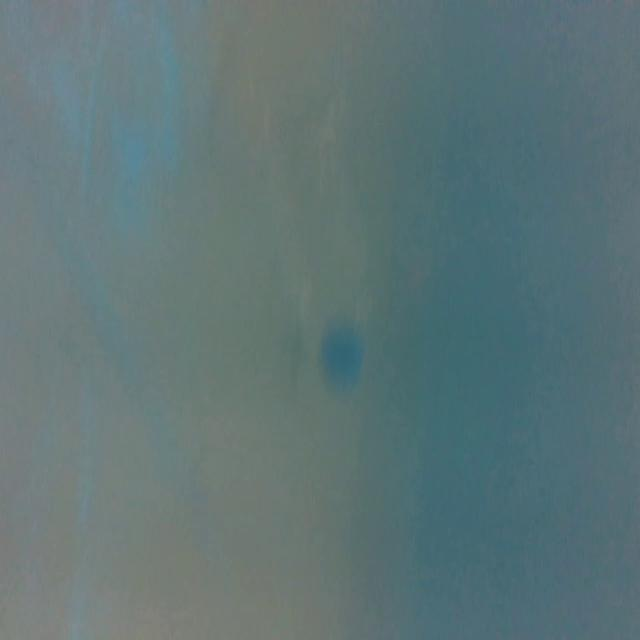plastic bottle: (268, 74, 398, 403)
